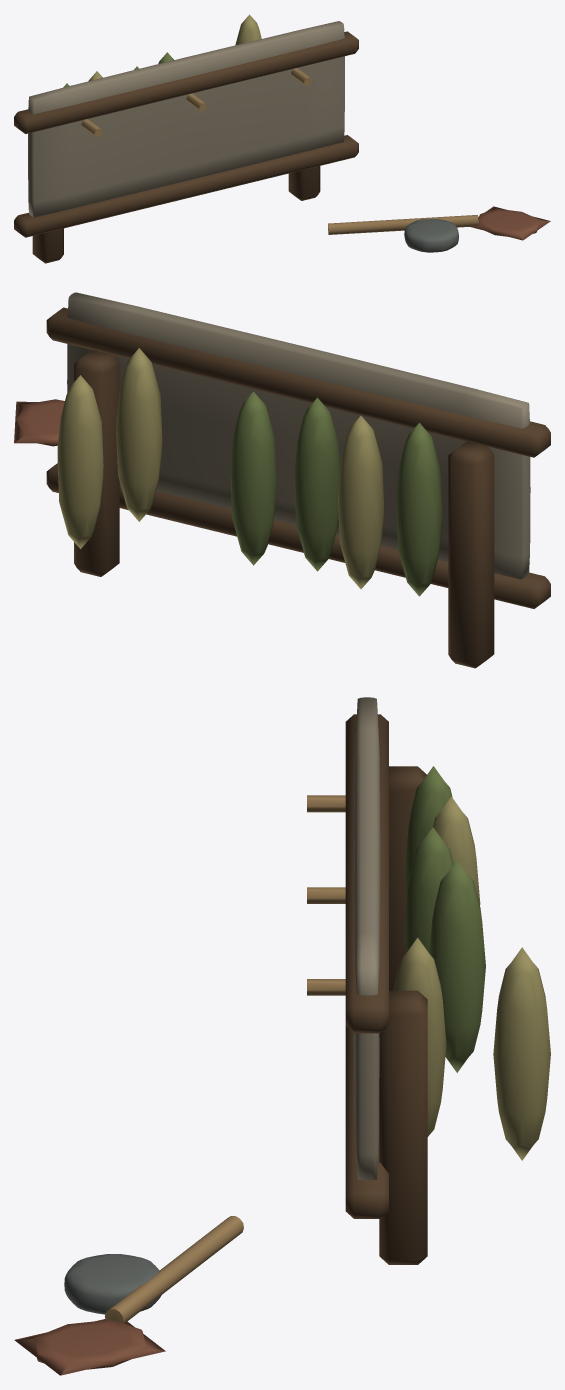
File: tool_peg_c.glb
The picture shows the model from 3 angles, top to bottom: view 1: azimuth 30°, elevation 25°; view 2: azimuth 150°, elevation 25°; view 3: azimuth 270°, elevation 25°; orthographic projection. The views are drawn at different scales.
Visible parts, largest first — view 1: Surface; view 2: Surface; view 3: Surface.
Boxes of the visible parts, left/top/right/bottom form: Surface: left=14, top=14, right=550, bottom=263; Surface: left=14, top=292, right=550, bottom=668; Surface: left=14, top=697, right=550, bottom=1375.
Bounding box in the file's own units: 3.85 × 1.45 × 2.23.
